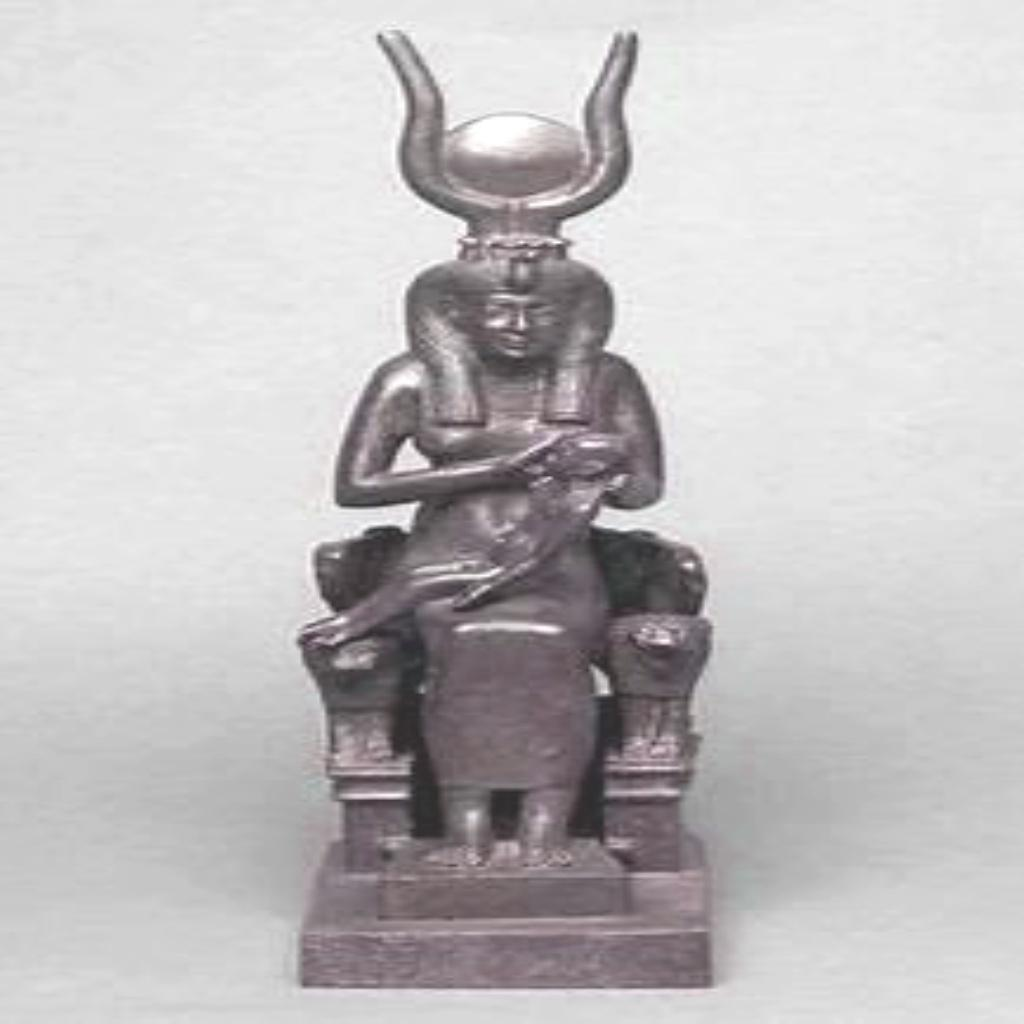Isis with her child: (278, 19, 736, 989)
